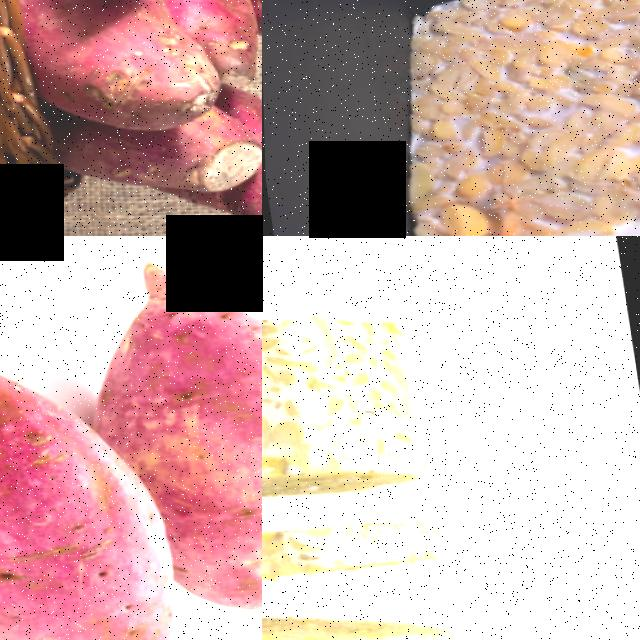sweet potato: (90, 236, 262, 629), (0, 306, 200, 640), (17, 0, 224, 143)
tempeh: (380, 0, 640, 236), (262, 292, 429, 518), (262, 497, 449, 602), (262, 588, 459, 640)
